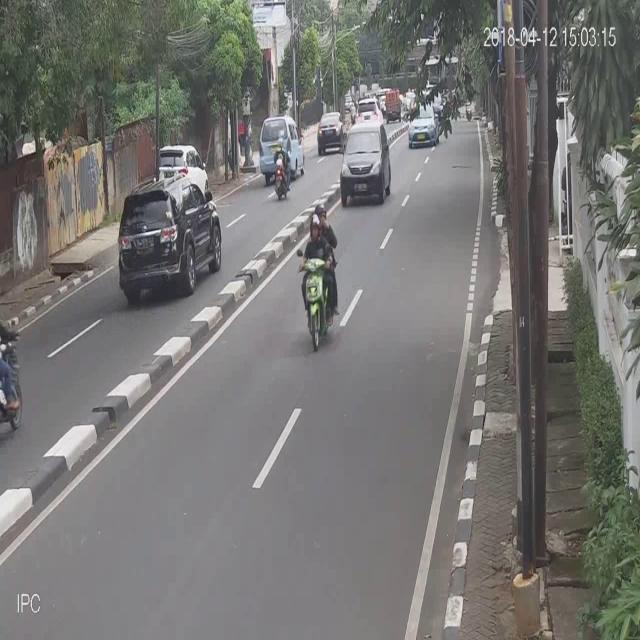bus: (296, 200, 340, 353), (273, 134, 291, 201)
motorcycle: (113, 179, 223, 303), (340, 118, 392, 206), (257, 110, 305, 180), (316, 108, 344, 154), (408, 106, 438, 148)
